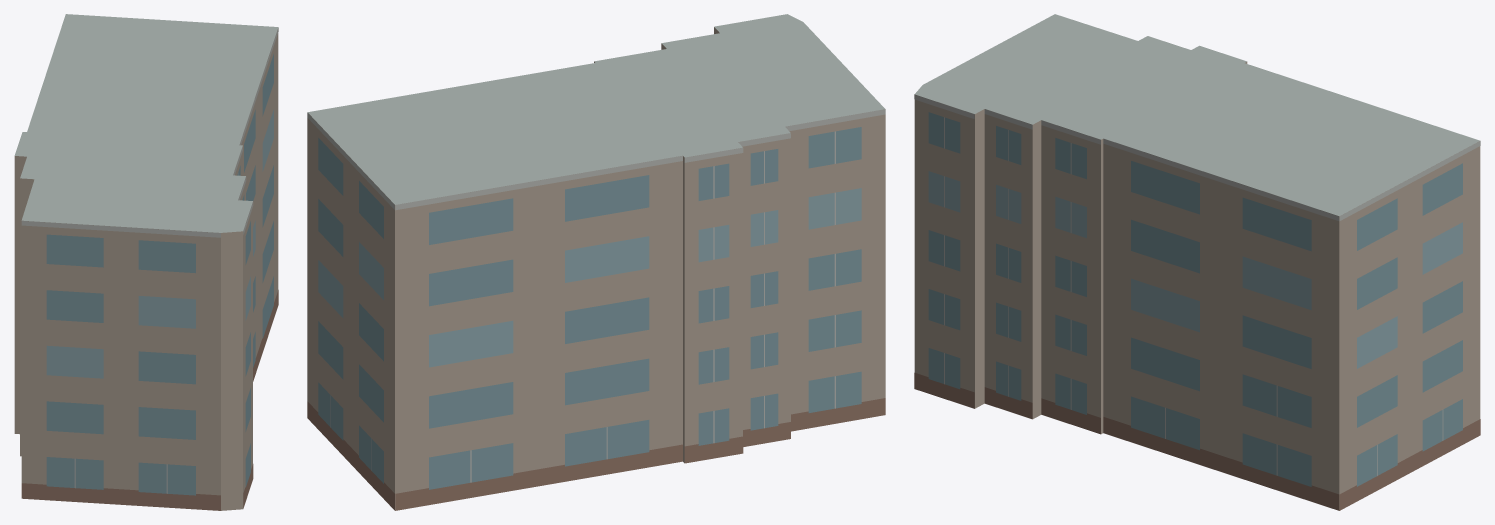
File: survey-upis-32738232.glb
3 views of the same model, side by side, from view 1: azimuth 30°, elevation 25°; view 2: azimuth 150°, elevation 25°; view 3: azimuth 270°, elevation 25° (orthographic). The views are drawn at different scales.
Parts seen in each view (by area): view 1: survey-upis-32738232.tmp; view 2: survey-upis-32738232.tmp; view 3: survey-upis-32738232.tmp.
Part boxes in pixels (<box>): survey-upis-32738232.tmp: <box>14,14,278,510</box>; survey-upis-32738232.tmp: <box>307,14,885,510</box>; survey-upis-32738232.tmp: <box>914,14,1480,510</box>.
Bounding box in the file's own units: 20.62 × 14 × 24.38.
